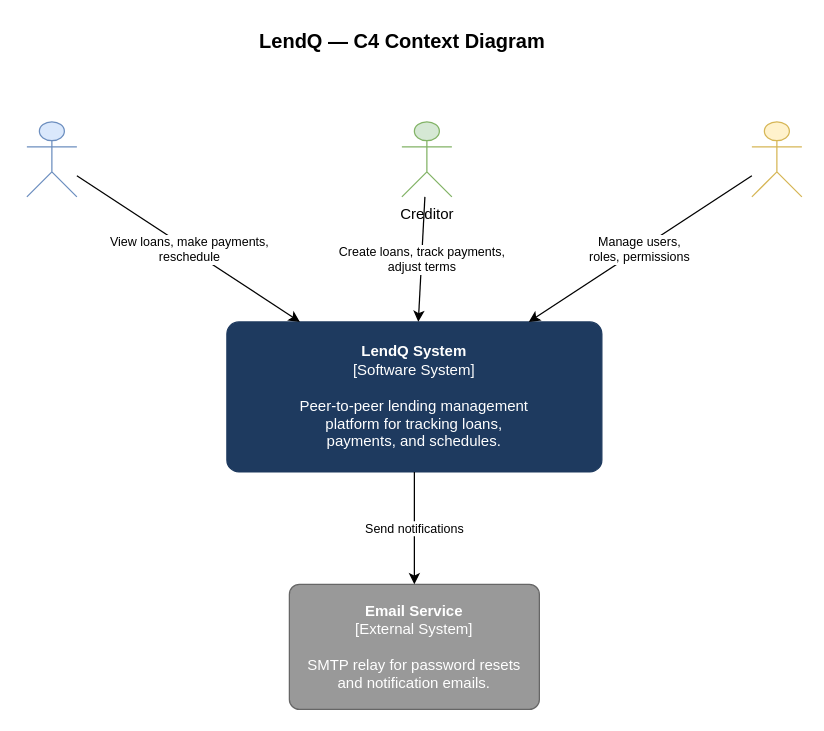
The diagram is 824 pixels wide and 731 high, and some of its shapes have lost their labels. Each missing label, with the centre of its shape:
Admin: point (776, 159)
Borrower: point (51, 159)
